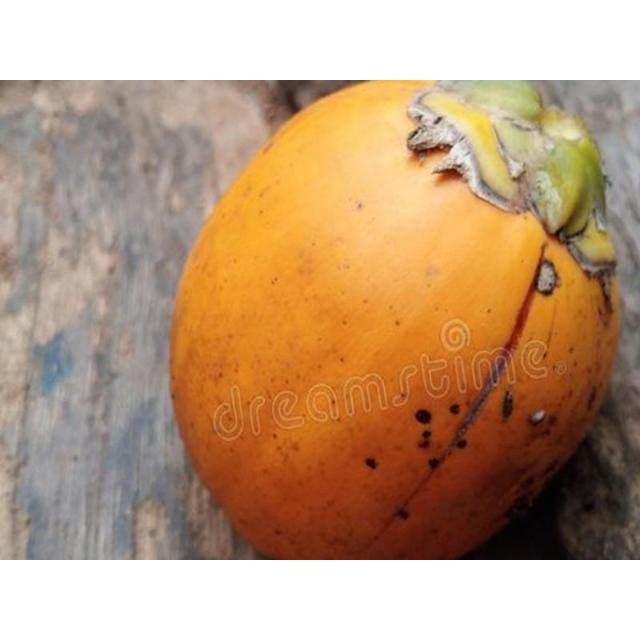good: (168, 80, 639, 559)
